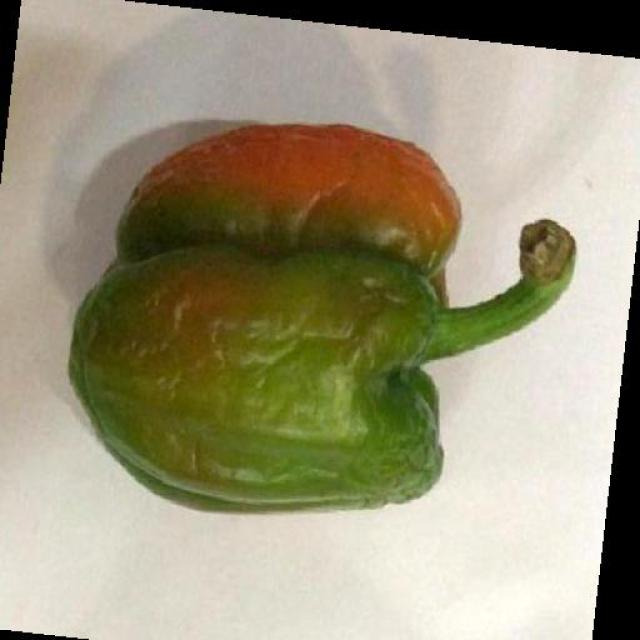Stale_Capsicum: (59, 103, 568, 536)
